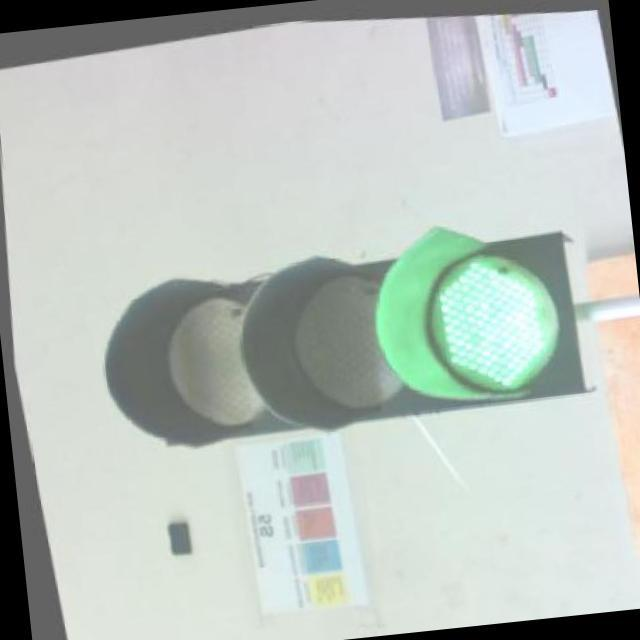green: (378, 241, 590, 405)
